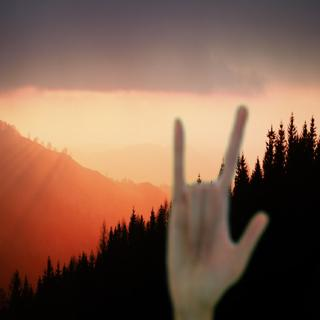ILY: (156, 102, 274, 309)
